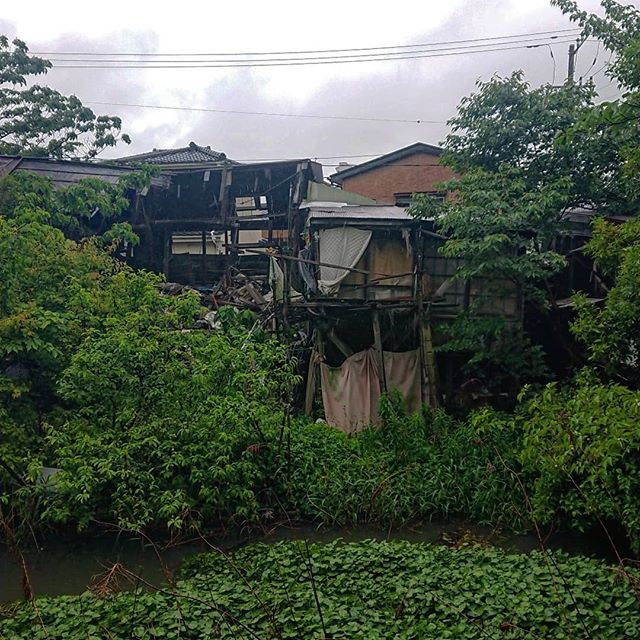building: (106, 143, 543, 417)
sky: (2, 1, 640, 150)
vegetation: (21, 190, 640, 640)
